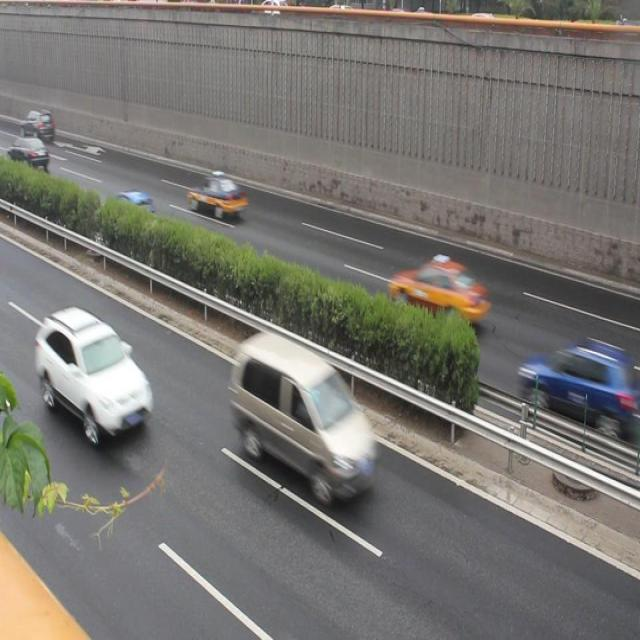car: (37, 306, 152, 436), (520, 336, 622, 426), (387, 256, 488, 326), (94, 190, 156, 242), (186, 172, 246, 220)
truck: (233, 331, 376, 499)
